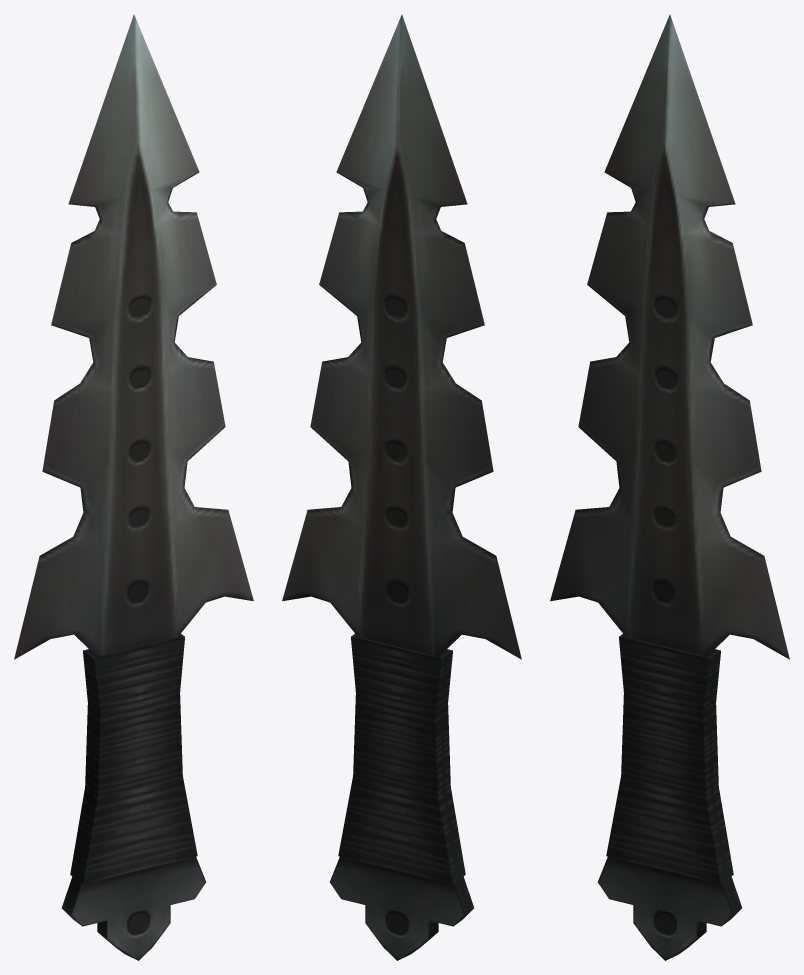
The model's file is 93_weapon.FBX.
The picture shows the model from 3 angles, left to right: view 1: azimuth 30°, elevation 25°; view 2: azimuth 150°, elevation 25°; view 3: azimuth 330°, elevation 25°; orthographic projection.
Parts seen in each view (by area): view 1: 93_weapon; view 2: 93_weapon; view 3: 93_weapon.
Boxes of the visible parts, bbox=[...] form: 93_weapon: bbox=[14, 14, 253, 960]; 93_weapon: bbox=[282, 14, 521, 960]; 93_weapon: bbox=[550, 14, 789, 960].
Size of the model in its own units: 236 by 888 by 25.31.
